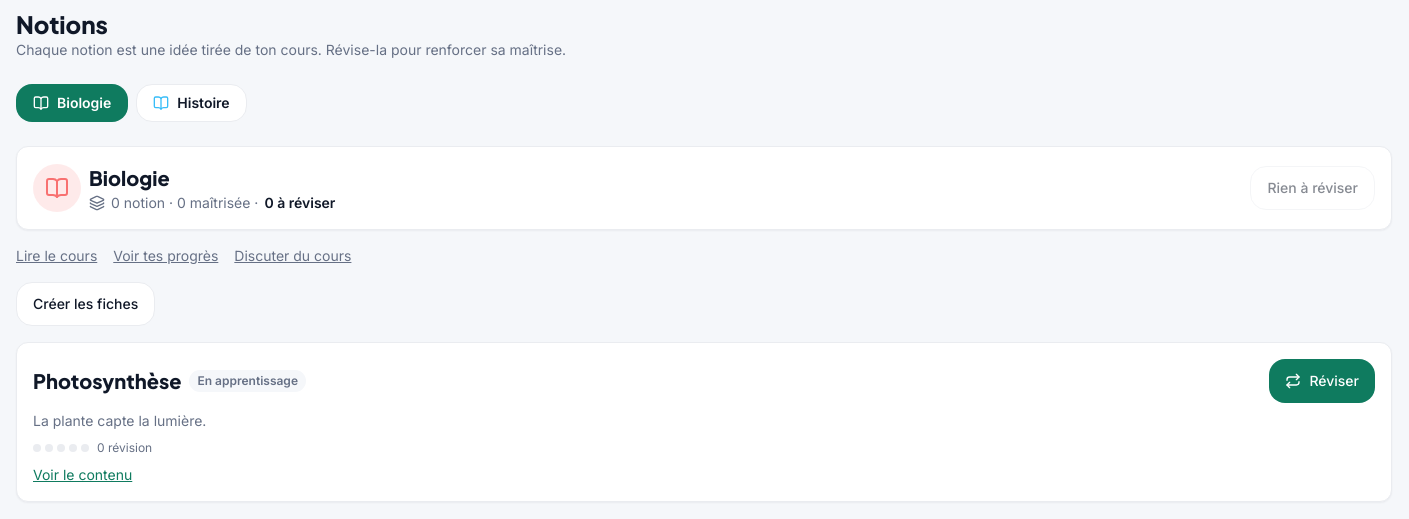
Test case: NotionsScreen › clicking a different pill switches the shown course's own notions, no navigation involved
Expected: the heading "Photosynthèse" is shown, [33,366,182,396]
Click the button "Histoire".
click(191, 103)  # box [136,84,247,122]
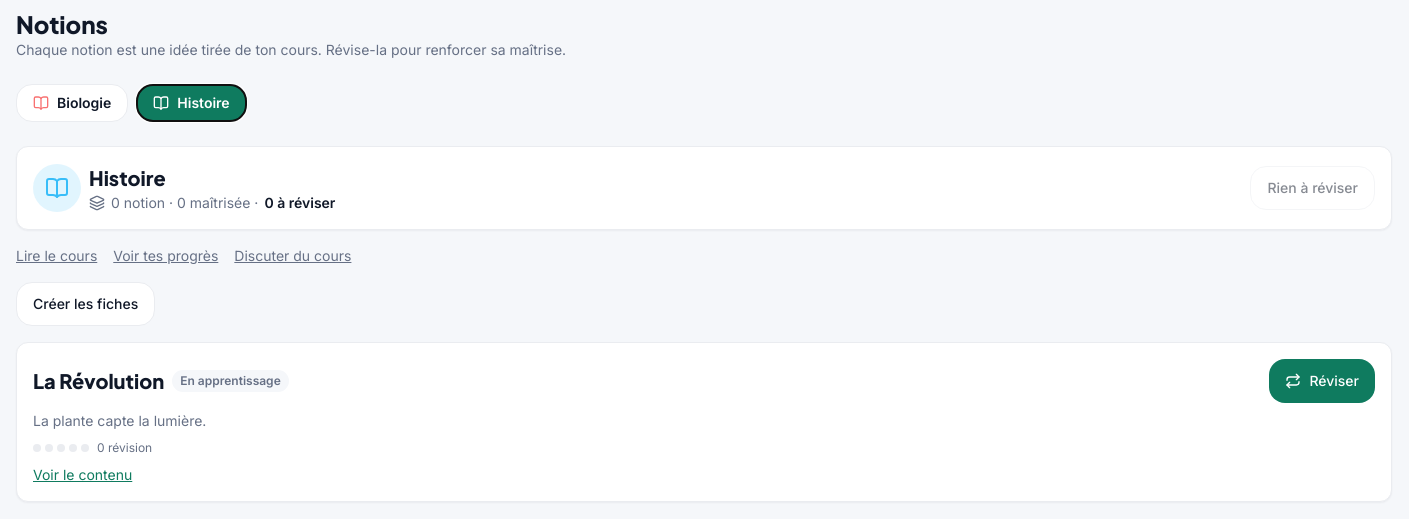
Expected: the heading "La Révolution" is shown, [33,366,164,396]
Expected: the heading "Photosynthèse" is gone
